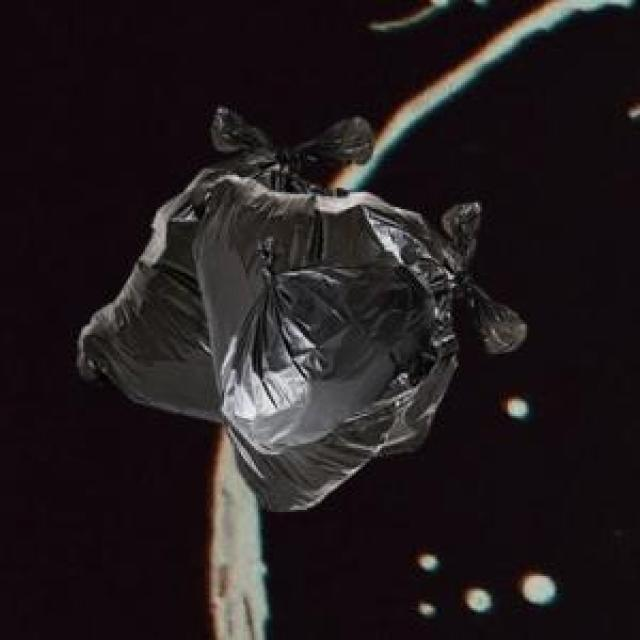Trashbag: (220, 250, 441, 461)
